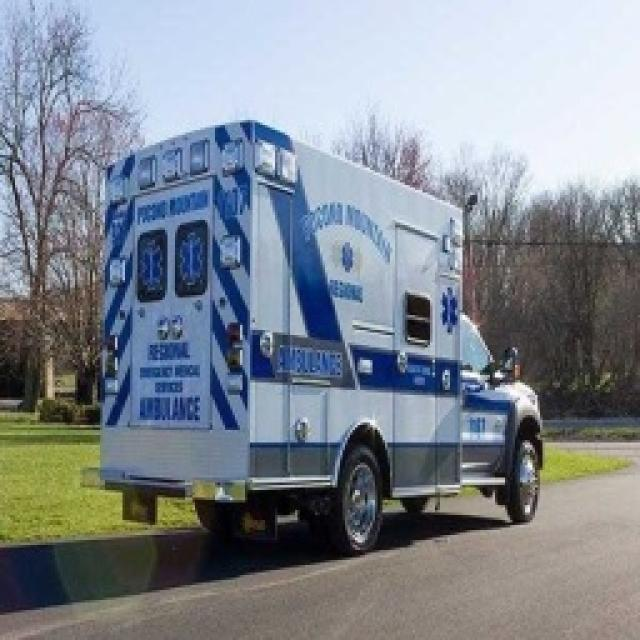emergency-vehicle: (84, 123, 580, 557)
